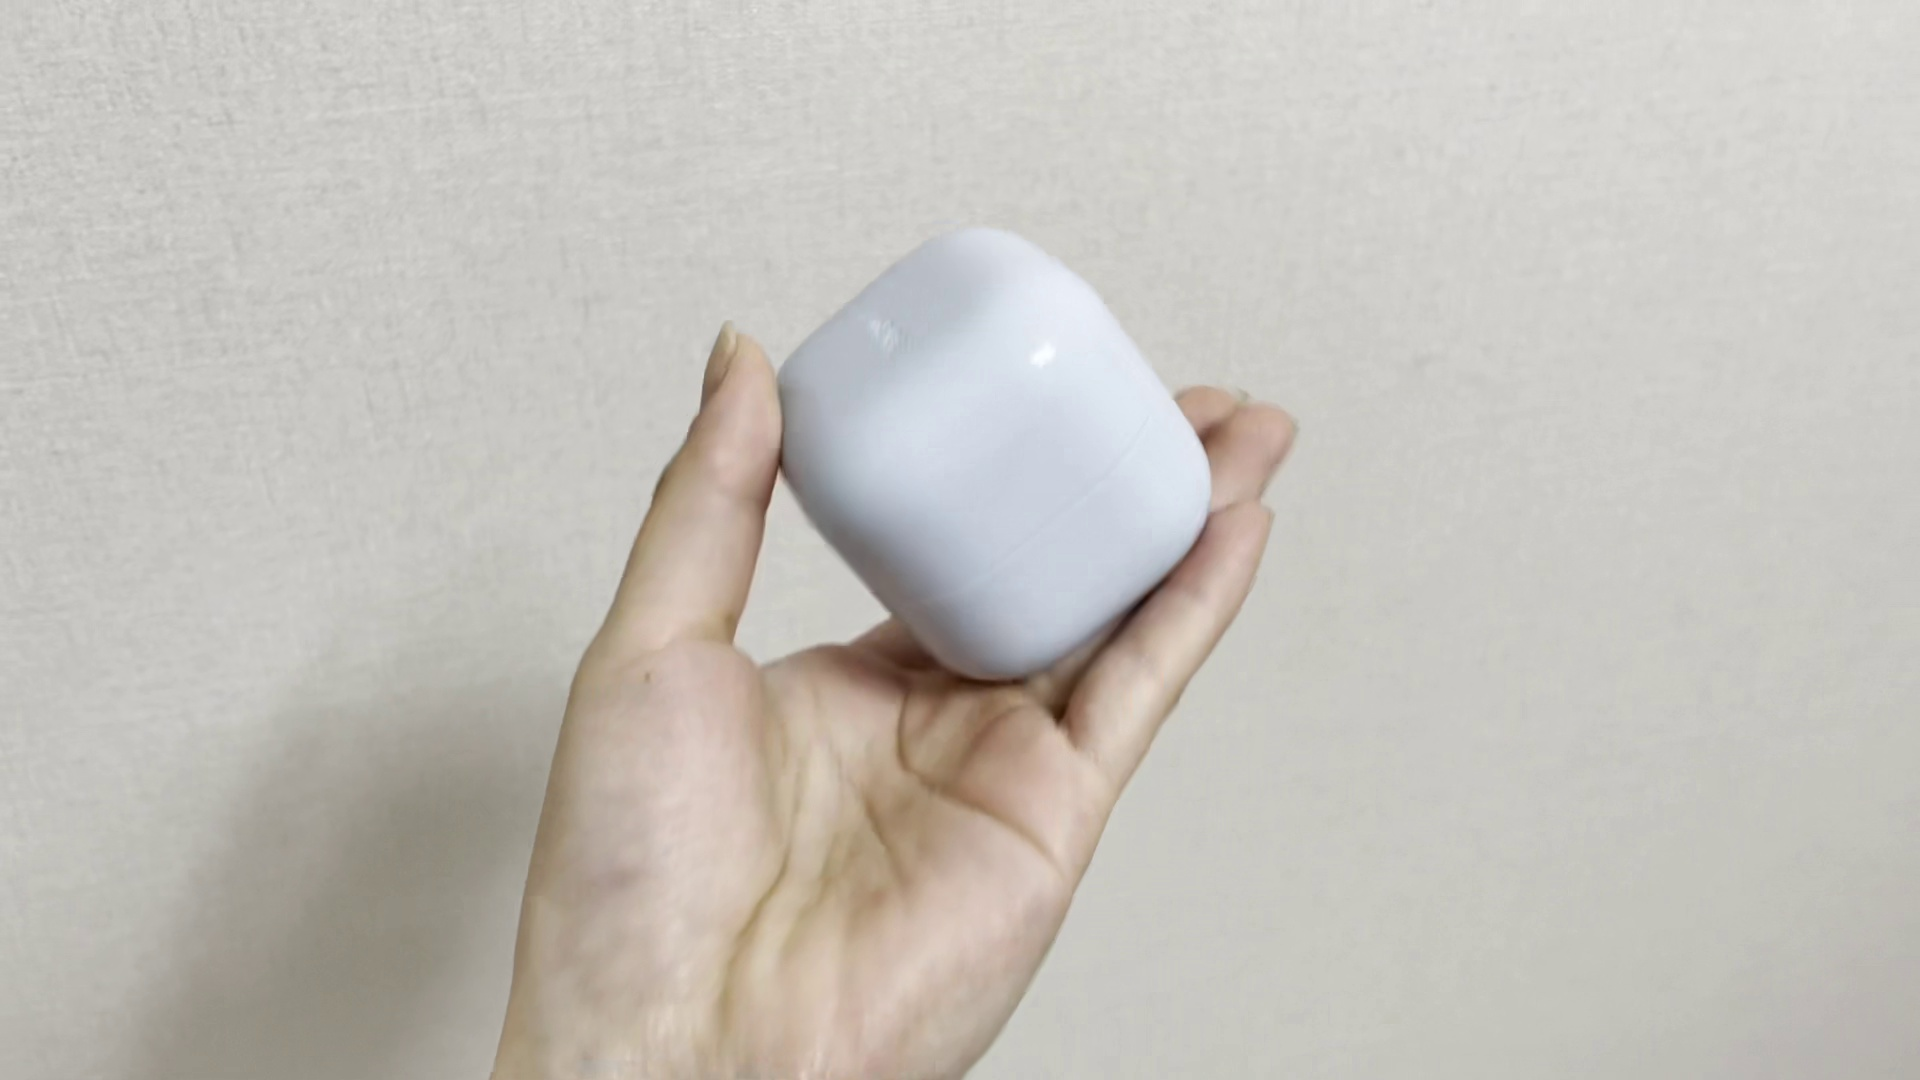cream: (774, 225, 1212, 680)
